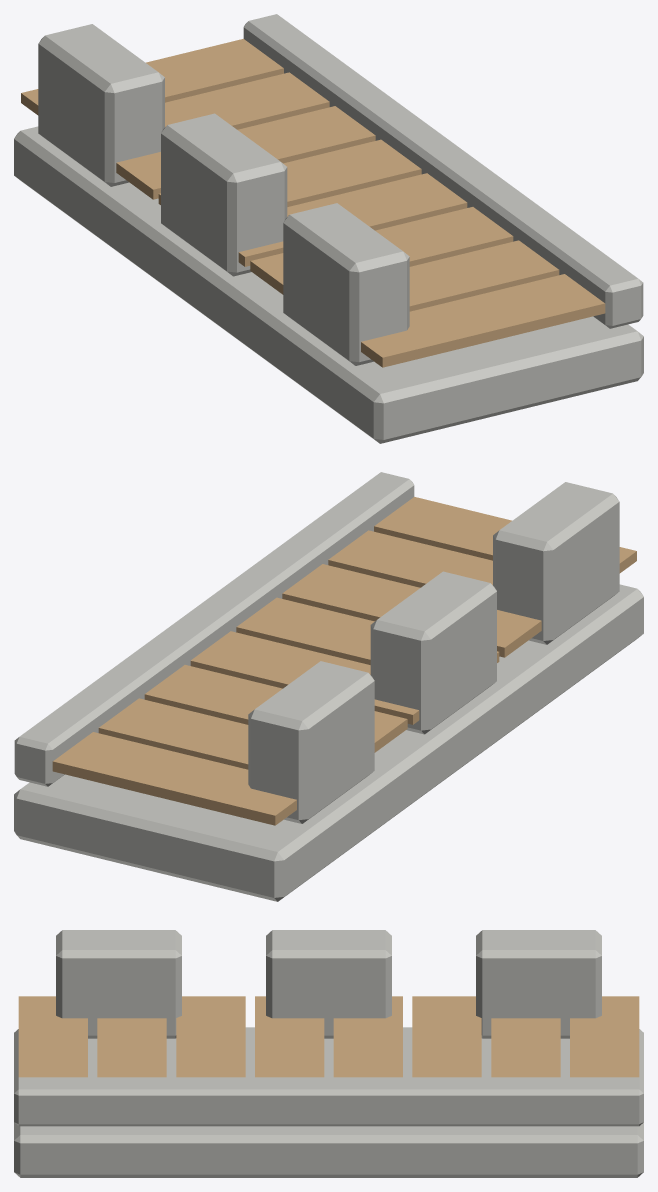
File: town_wall_walk_crenellated.glb
3 views of the same model, one above another, from view 1: azimuth 30°, elevation 25°; view 2: azimuth 150°, elevation 25°; view 3: azimuth 270°, elevation 25° (orthographic). The views are drawn at different scales.
Visible parts, largest first — view 1: world; view 2: world; view 3: world.
Part boxes in pixels (x1,y1,x2,y2): world: [14, 14, 643, 443]; world: [14, 472, 643, 901]; world: [14, 930, 643, 1177].
Bounding box in the file's own units: 0.8499 × 0.49 × 2.
